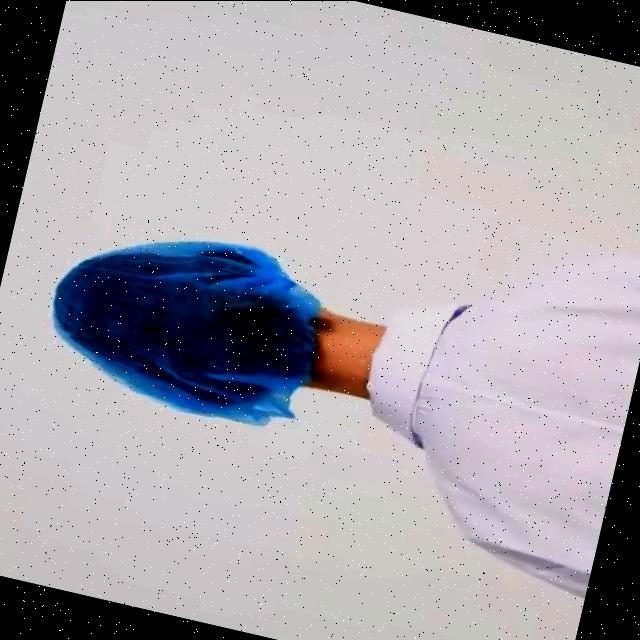gloves: (74, 247, 308, 433)
